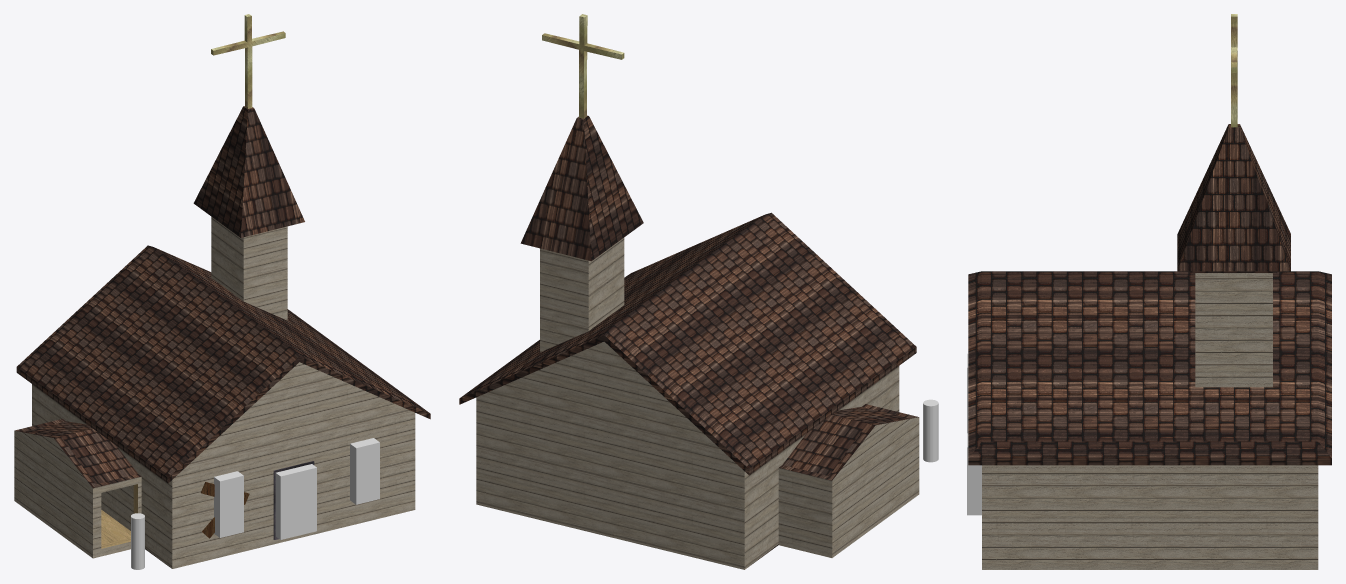
File: cabin.glb
3 views of the same model, side by side, from view 1: azimuth 30°, elevation 25°; view 2: azimuth 150°, elevation 25°; view 3: azimuth 270°, elevation 25° (orthographic). The views are drawn at different scales.
Parts seen in each view (by area): view 1: Cabin-col, Shack-col, WindowCut-noimp, DoorCut -noimp, Ref-noimp; view 2: Cabin-col, Shack-col, Ref-noimp; view 3: Cabin-col, WindowCut-noimp.
Part boxes in pixels (left/top/right/bottom): Cabin-col: left=16, top=14, right=430, bottom=568; Shack-col: left=14, top=419, right=141, bottom=558; WindowCut-noimp: left=214, top=438, right=379, bottom=537; DoorCut -noimp: left=275, top=464, right=316, bottom=539; Ref-noimp: left=131, top=513, right=144, bottom=569; Cabin-col: left=459, top=14, right=916, bottom=569; Shack-col: left=778, top=404, right=919, bottom=557; Ref-noimp: left=923, top=399, right=938, bottom=462; Cabin-col: left=968, top=14, right=1331, bottom=569; WindowCut-noimp: left=967, top=353, right=981, bottom=515.
Size of the model in its own units: 12.4 by 17 by 10.84.
7 materials, 6 textured.
